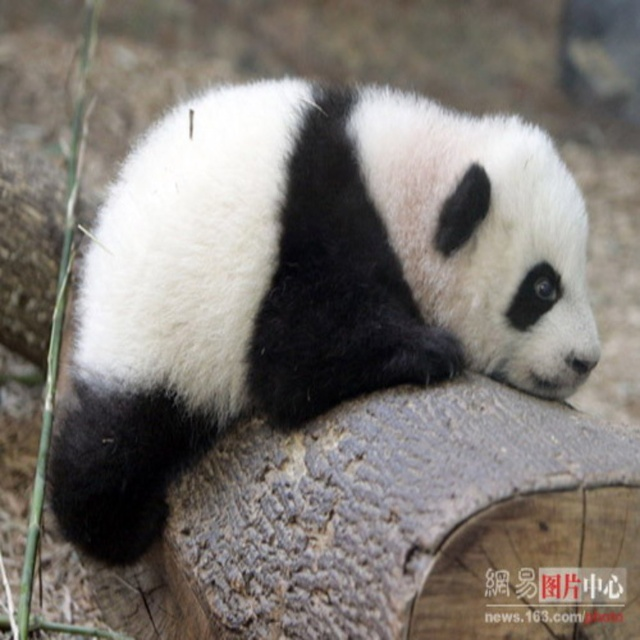Panda: (36, 77, 616, 577)
